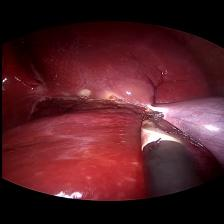Hook: (128, 108, 178, 154)
